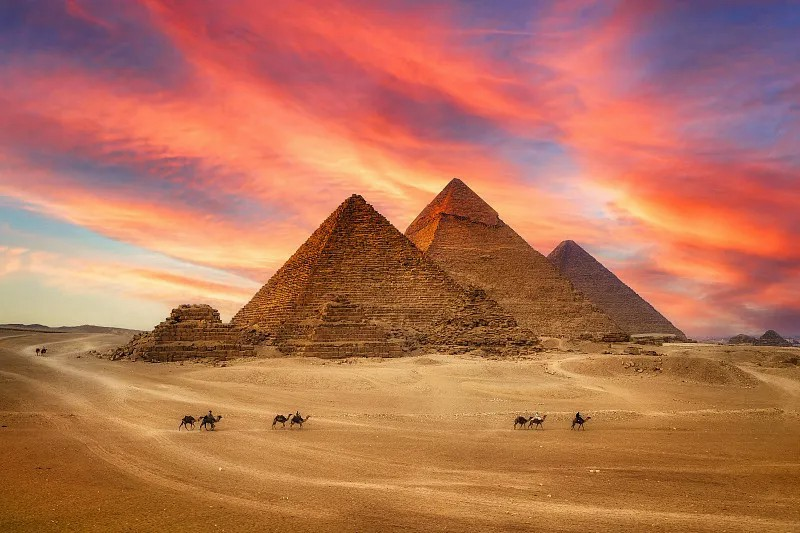Pyramid: (403, 178, 627, 346), (228, 192, 470, 341), (547, 239, 683, 339), (419, 288, 549, 357), (281, 292, 399, 358), (129, 303, 257, 359)
